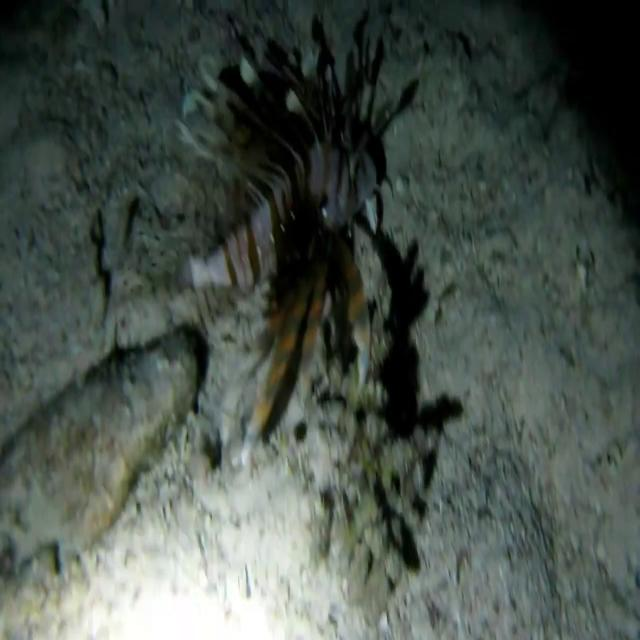Aslan Baligi: (154, 18, 422, 461)
